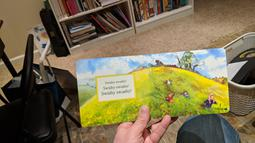text block: (98, 75, 134, 98)
